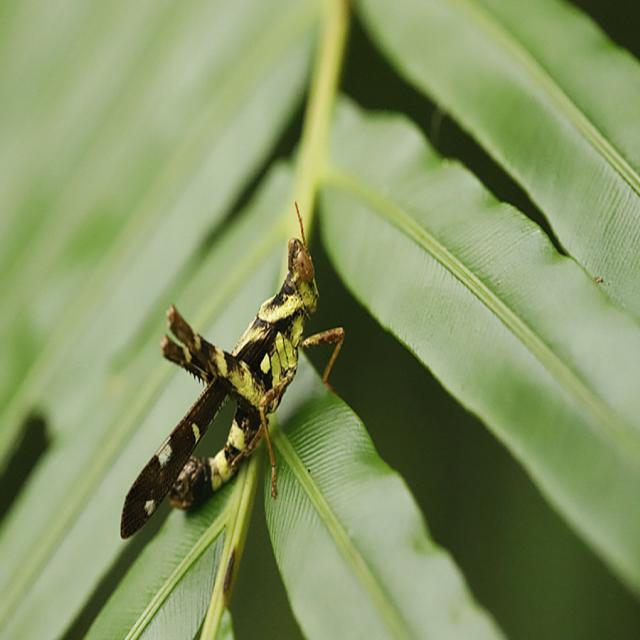ZhaMeng: (117, 216, 342, 551)
